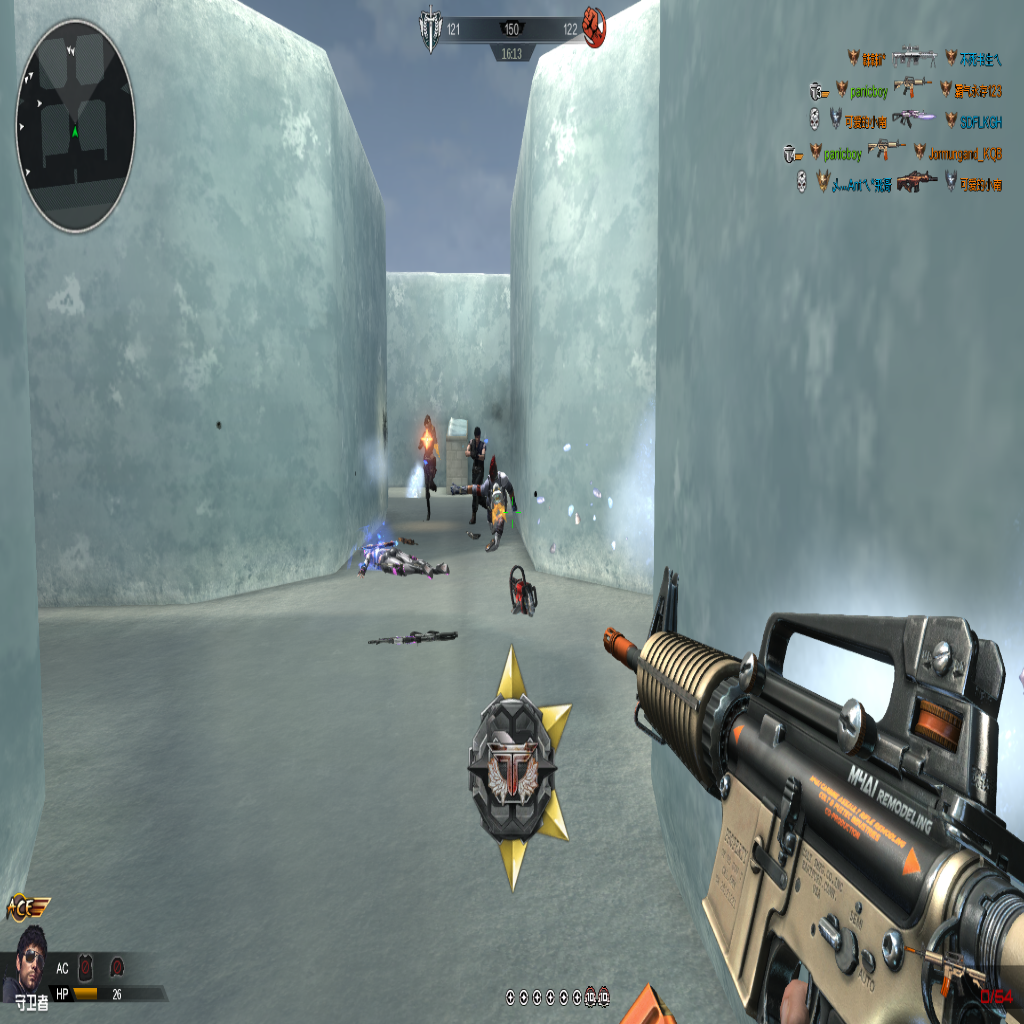ct: (462, 423, 488, 527), (416, 412, 438, 517)
